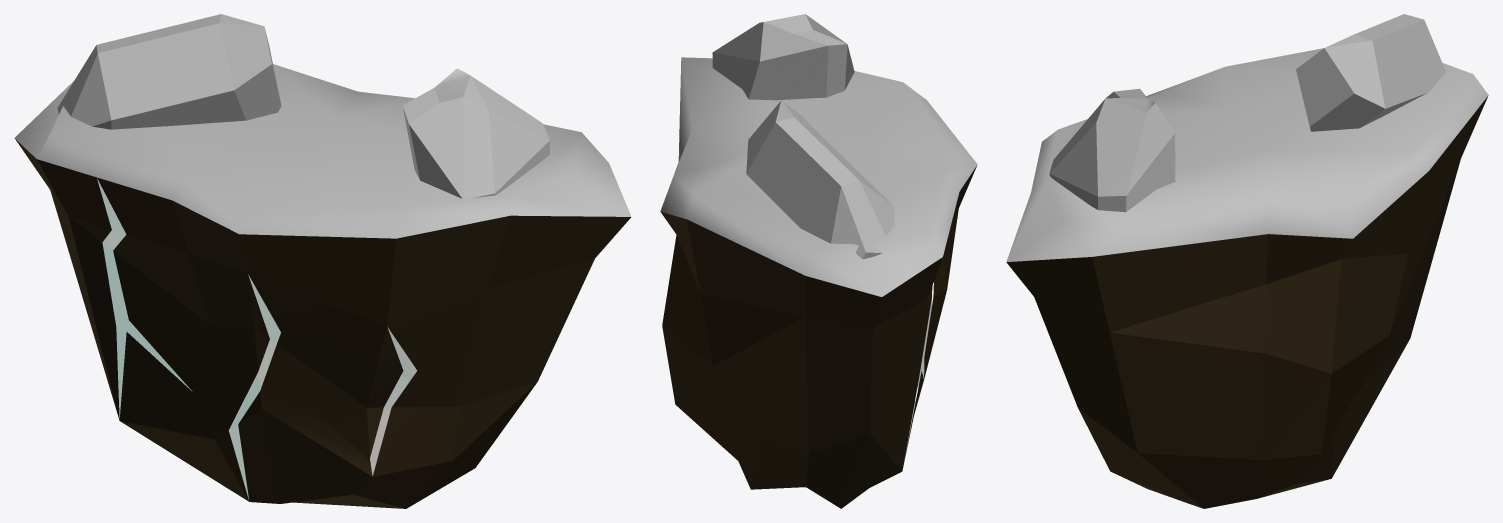
Rendered from IslandBlockoutFBX.fbx.
3 views of the same model, side by side, from view 1: azimuth 30°, elevation 25°; view 2: azimuth 150°, elevation 25°; view 3: azimuth 270°, elevation 25° (orthographic). The views are drawn at different scales.
Visible parts, largest first — view 1: islandBlockout; view 2: islandBlockout; view 3: islandBlockout.
Part boxes in pixels (box(x1,y1,x2,y2)): islandBlockout: box(14, 14, 631, 508); islandBlockout: box(660, 14, 977, 508); islandBlockout: box(1006, 14, 1488, 508).
Bounding box in the file's own units: 5.54 × 5.34 × 5.56.
